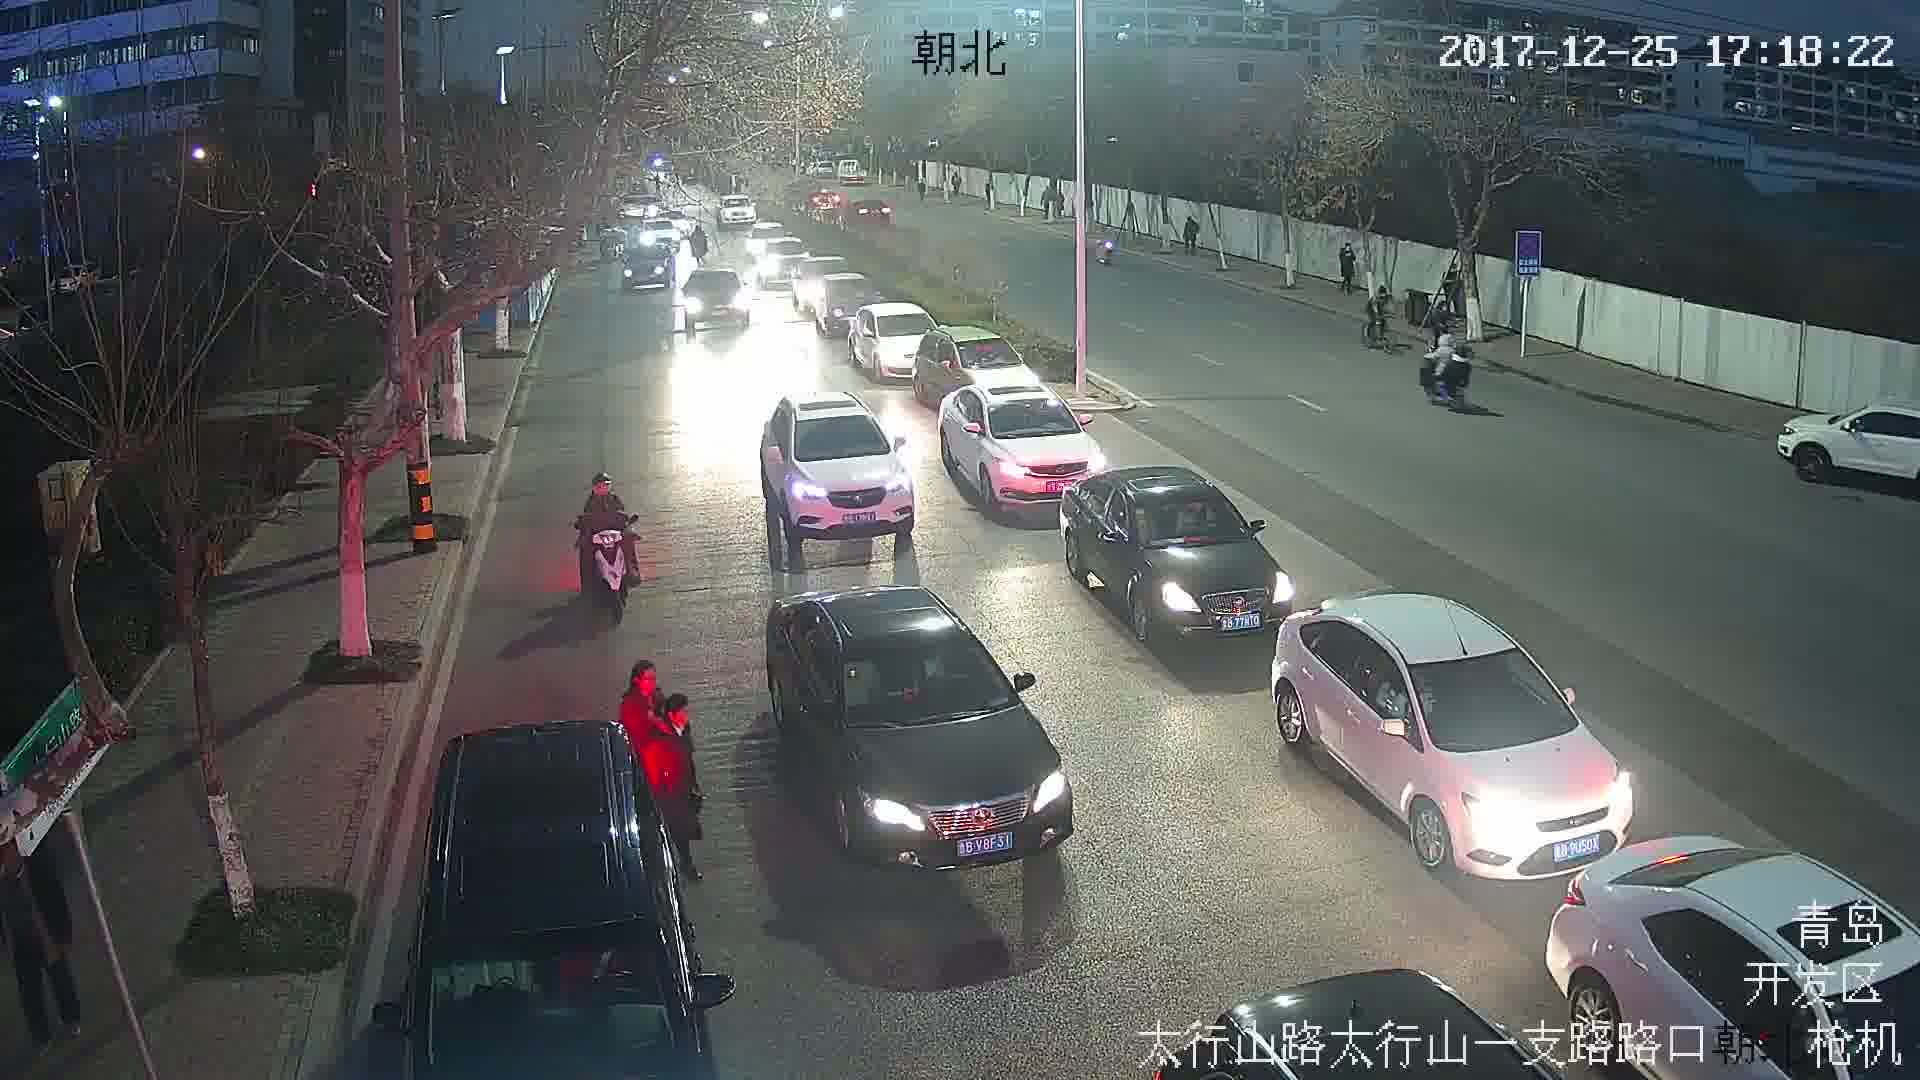car: (1280, 592, 1641, 881), (770, 587, 1075, 874), (1057, 466, 1302, 637), (768, 391, 912, 542), (937, 389, 1105, 509), (848, 300, 932, 375), (680, 269, 757, 331)
person: (9, 857, 91, 1042), (664, 689, 713, 856), (578, 470, 631, 569), (607, 662, 660, 741), (1446, 346, 1473, 406), (1427, 330, 1450, 384), (1370, 282, 1388, 344)
